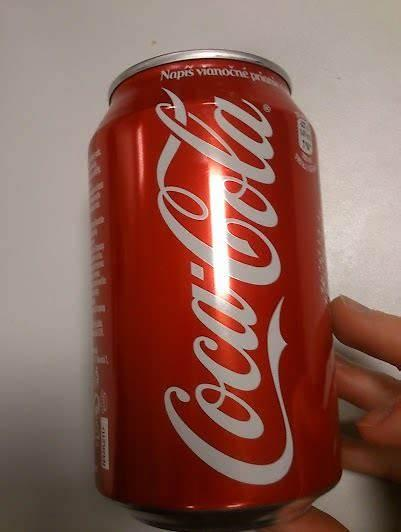metal: (89, 50, 342, 531)
